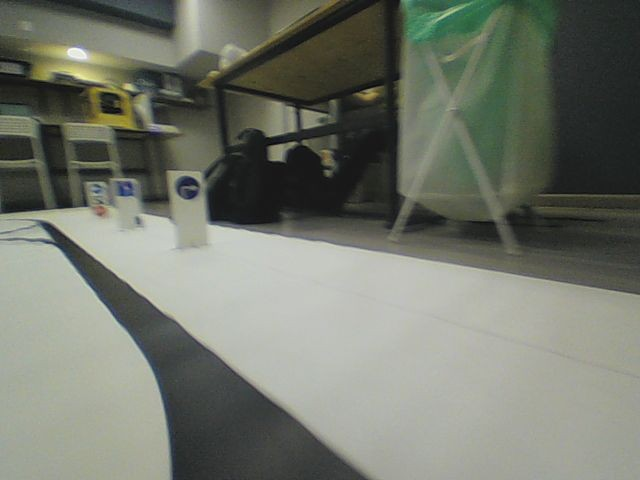Right: (174, 175, 200, 201)
